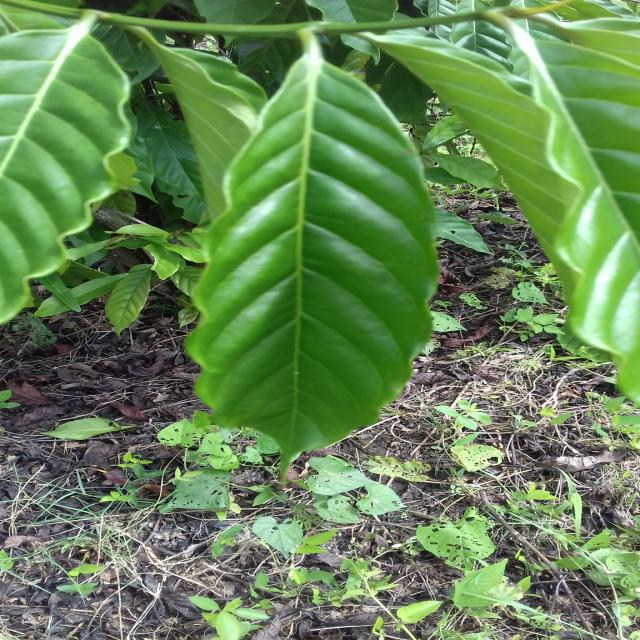Sanas: (184, 66, 439, 461)
